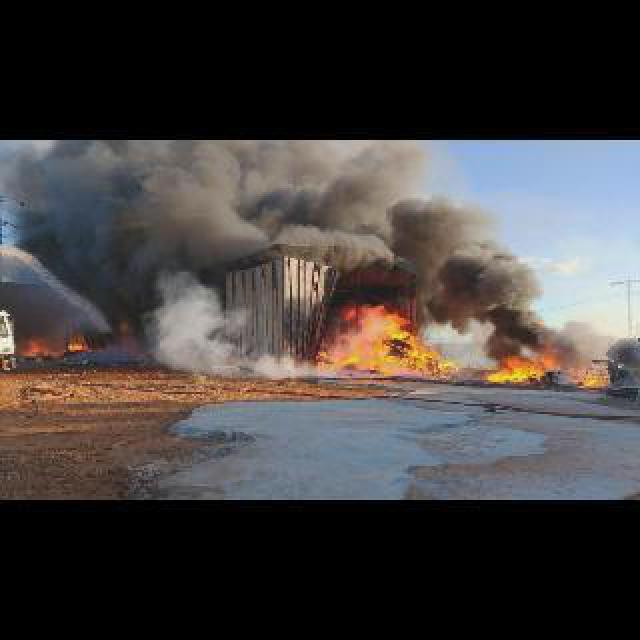smoke: (0, 140, 562, 338), (138, 264, 254, 356), (418, 298, 504, 372), (258, 350, 320, 378)
zfire: (320, 296, 458, 370), (484, 342, 556, 380), (18, 330, 82, 354), (208, 356, 246, 370), (580, 368, 596, 384)
